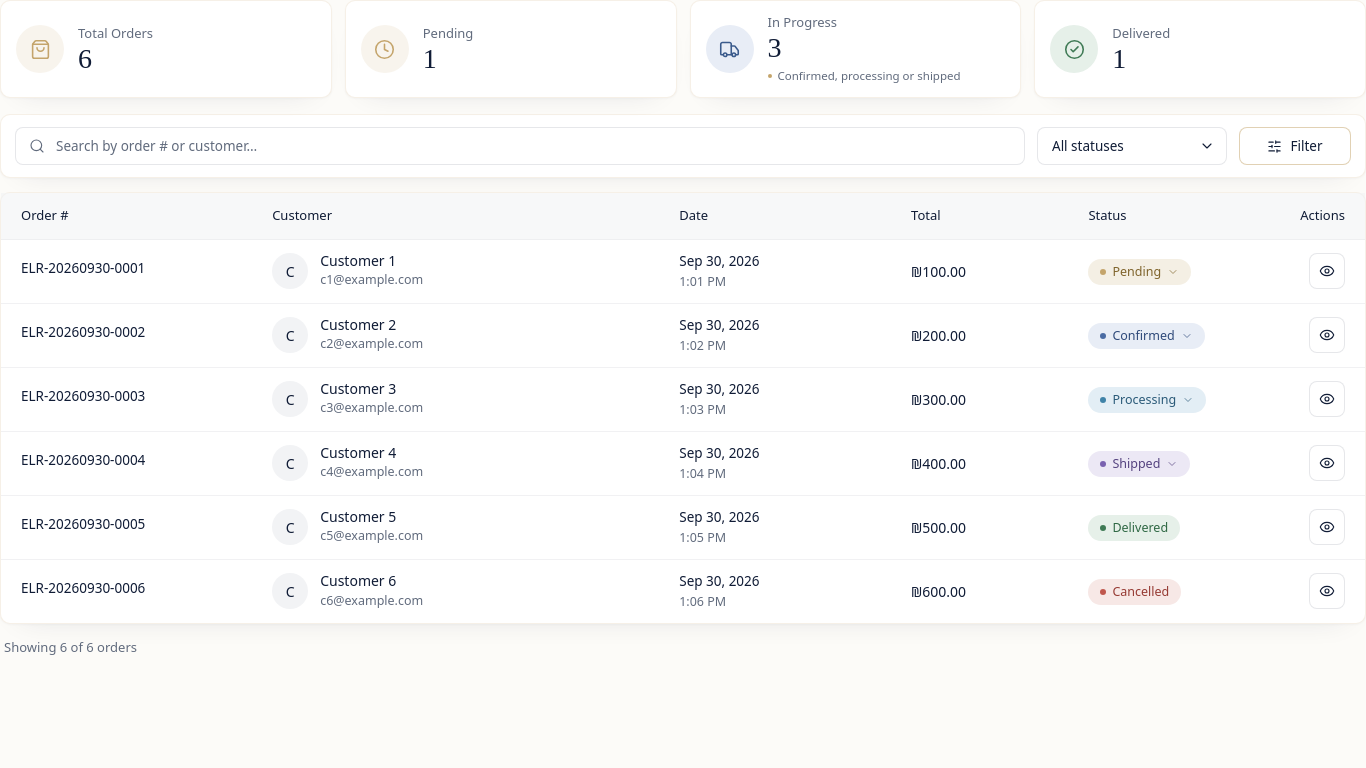
final statuses ask first › Go back changes nothing: no save, no refresh, the badge and cards stay as they were
Click the button with test id "order-status-toggle" at (1140, 272), box [1088,259,1191,285]
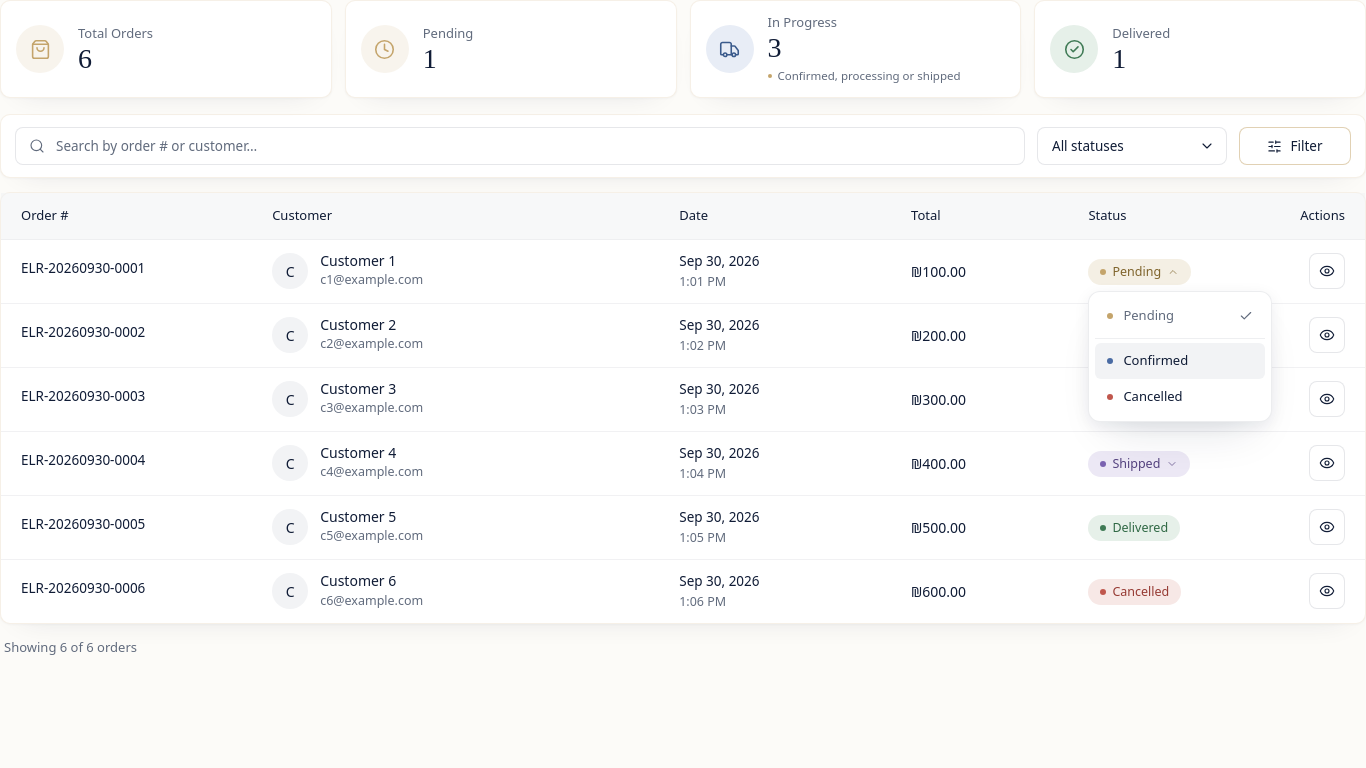
Click the menu item "Cancelled" at (1180, 397), box [1095,379,1265,415]
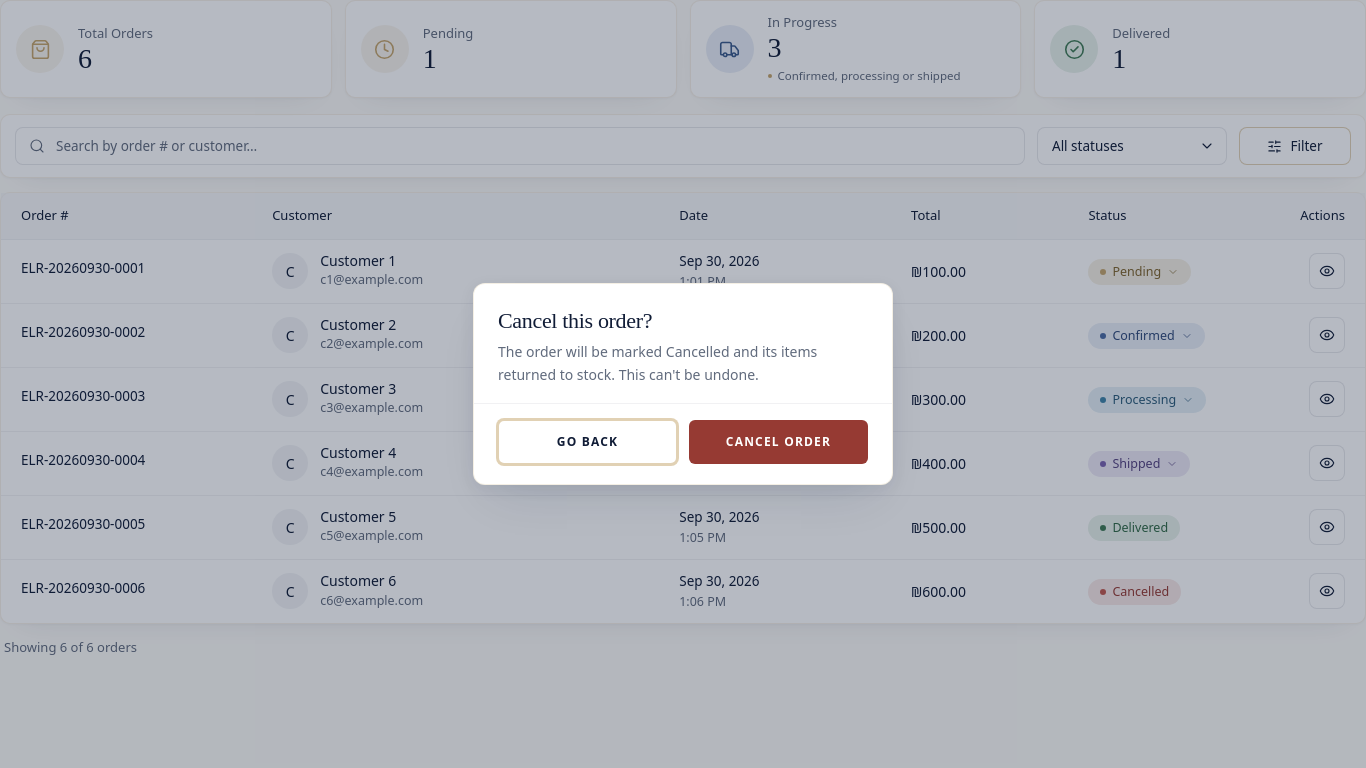
Click the button "Go back" at (588, 442), box [498,420,677,464]
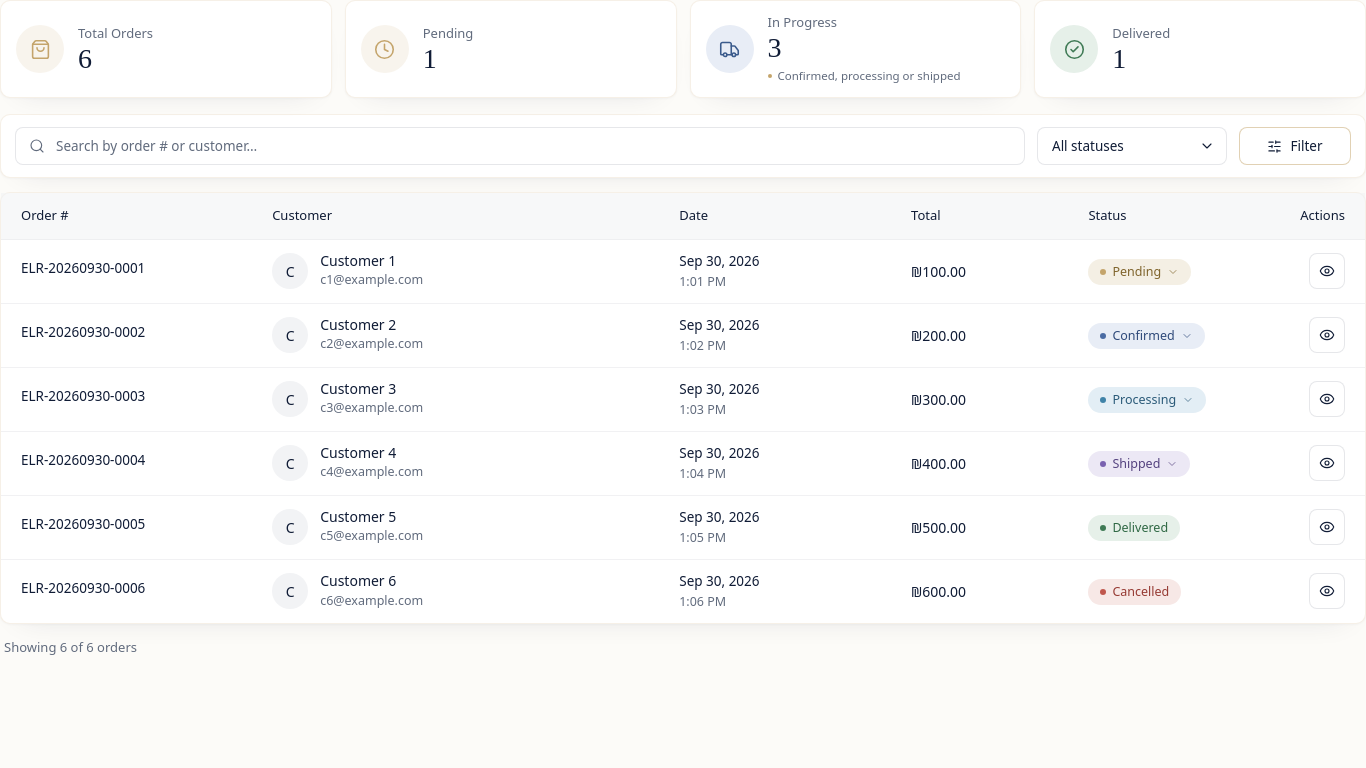
Check: the dialog is gone
